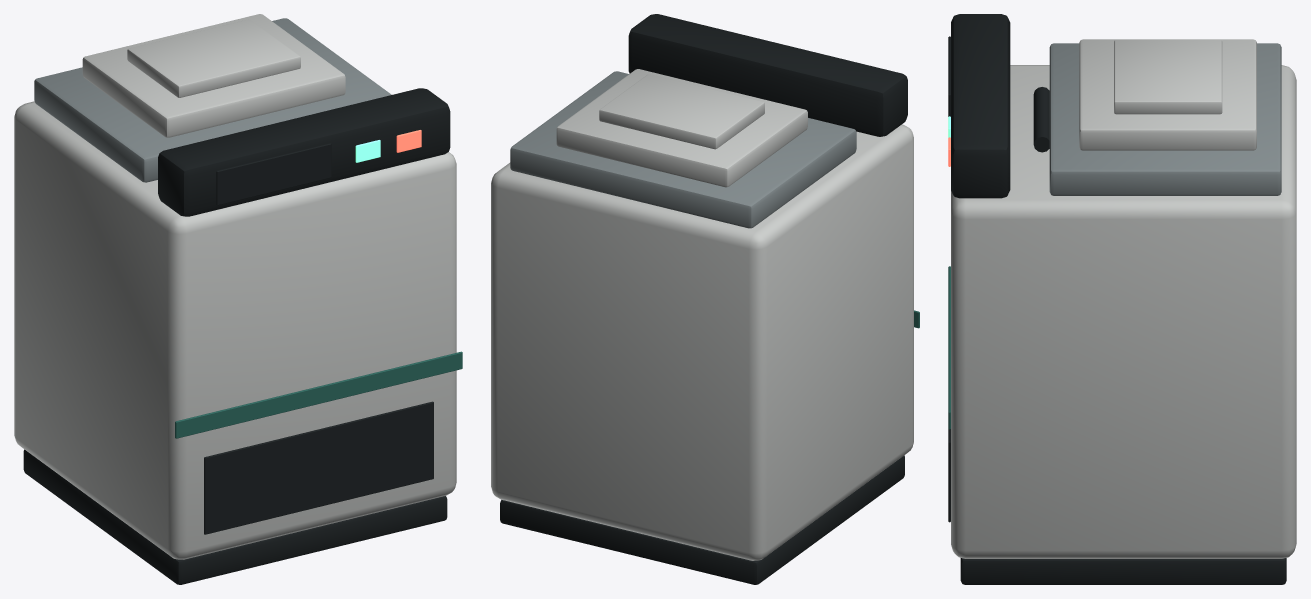
The model's file is centrifuge.glb.
The picture shows the model from 3 angles, left to right: view 1: azimuth 30°, elevation 25°; view 2: azimuth 150°, elevation 25°; view 3: azimuth 270°, elevation 25°; orthographic projection. The views are drawn at different scales.
Parts seen in each view (by area): view 1: centrifuge; view 2: centrifuge; view 3: centrifuge.
Part boxes in pixels (left/top/right/bottom): centrifuge: left=14, top=14, right=462, bottom=584; centrifuge: left=491, top=14, right=919, bottom=584; centrifuge: left=948, top=14, right=1296, bottom=584.
Bounding box in the file's own units: 0.7 × 1 × 0.705.
